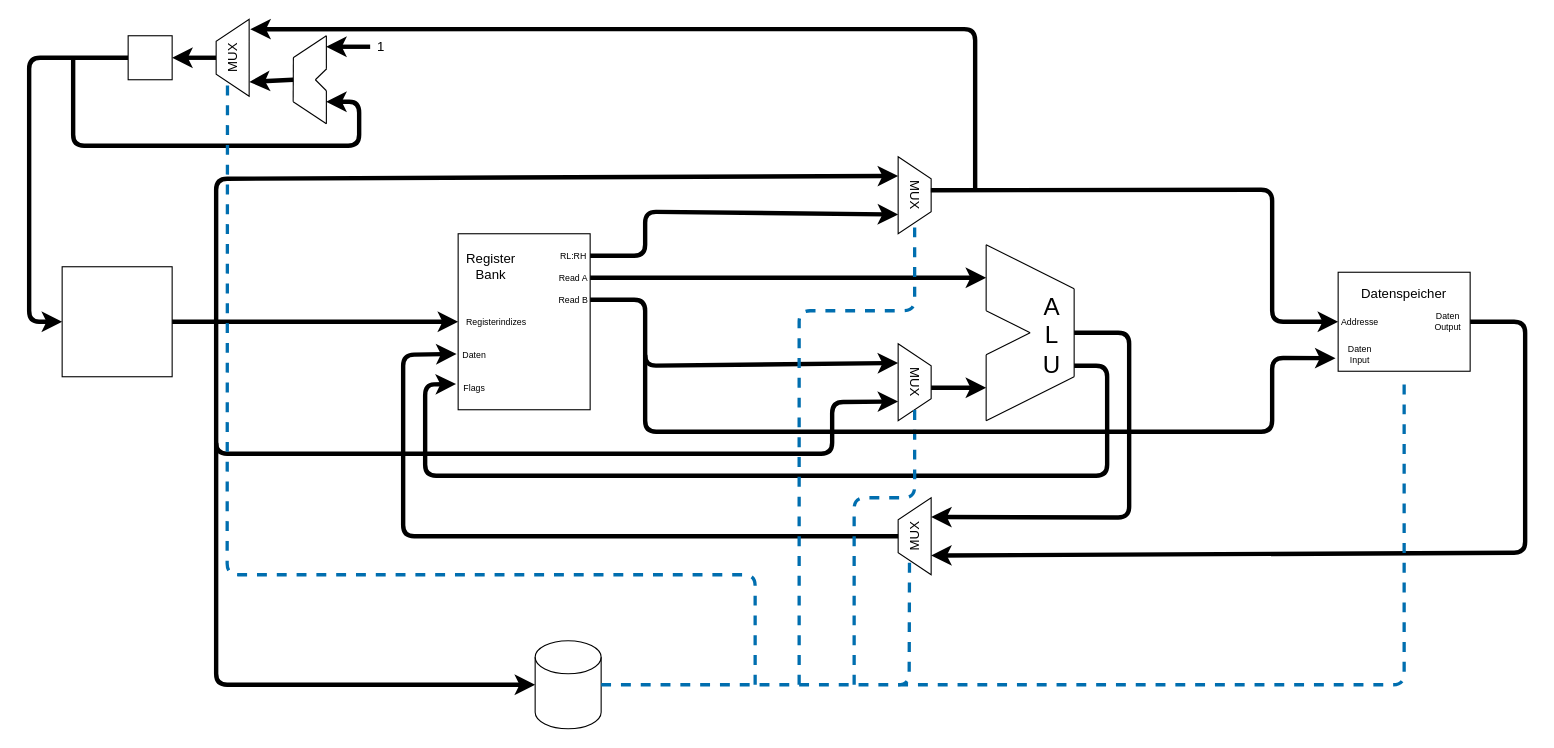
Image size: 1554x748. Some labels were removed from this diagram. Here are the shapes that lost their labels. From the top down, the centre of each, then its label:
At point 149,57: "PC".
At point 116,321: "Befehlsspeicher".
At point 567,684: "OPROM".
